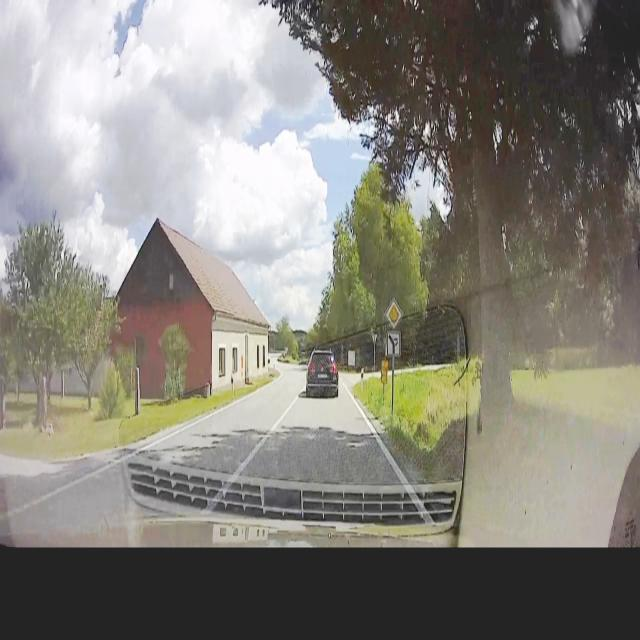Priority road: (382, 293, 405, 329)
